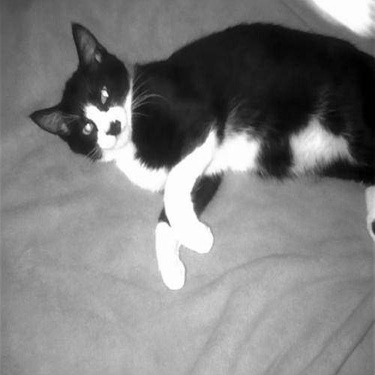cat: (27, 13, 364, 307)
